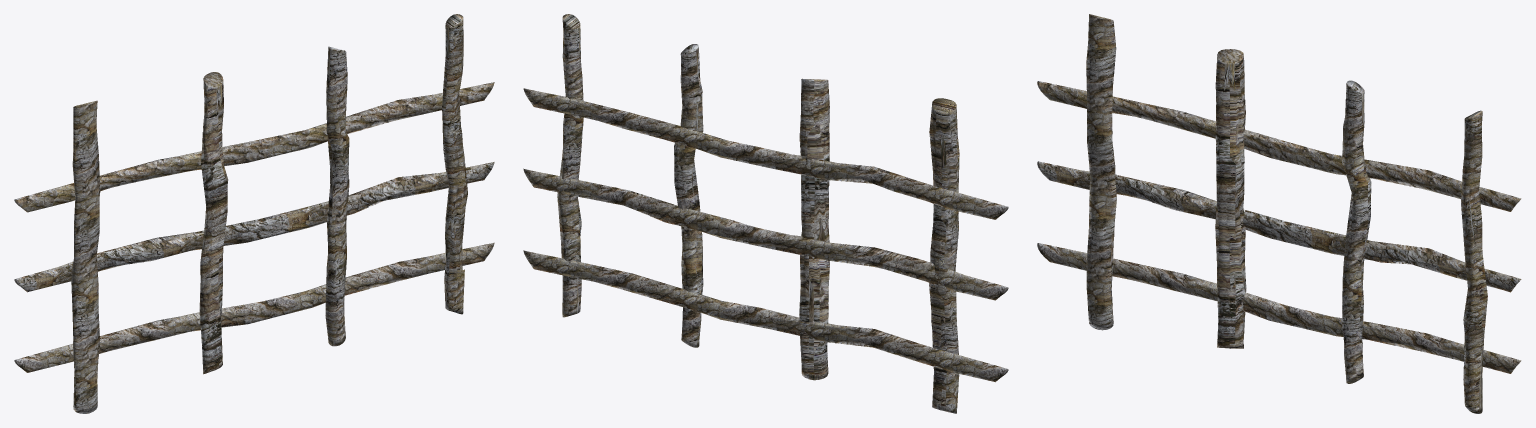
Rendered from PagerBatang Kayu.fbx.
3 renders of one model, left to right at view 1: azimuth 30°, elevation 25°; view 2: azimuth 150°, elevation 25°; view 3: azimuth 330°, elevation 25°, orthographic.
Visible parts, largest first — view 1: Cylinder.028; view 2: Cylinder.028; view 3: Cylinder.028.
Boxes of the visible parts, box(x1,y1,x2,y2) form: Cylinder.028: box(14, 14, 494, 413); Cylinder.028: box(523, 14, 1008, 413); Cylinder.028: box(1037, 14, 1521, 413).
Bounding box in the file's own units: 653 × 403 × 34.99.
Materials: 1 (1 with a texture image).
